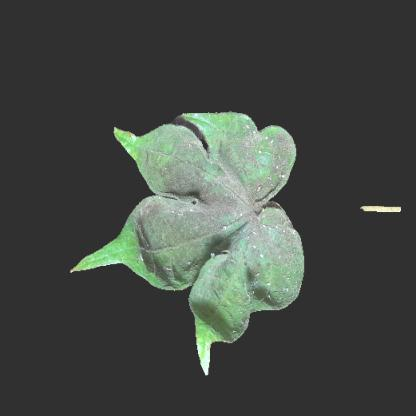curl_stage2: (87, 249, 137, 269)
sooty: (170, 156, 288, 262), (200, 256, 251, 335), (132, 207, 184, 281), (218, 124, 296, 160), (245, 259, 301, 305), (162, 130, 204, 172)
